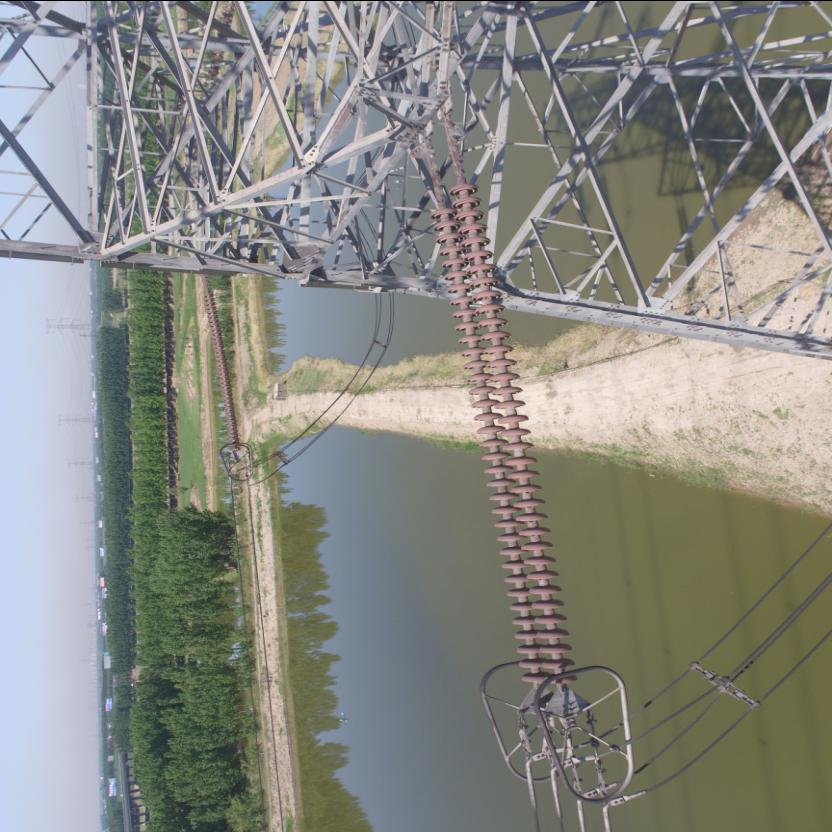insulator: (424, 163, 578, 702), (198, 277, 240, 449)
